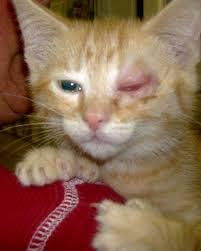infection: (109, 57, 174, 107)
